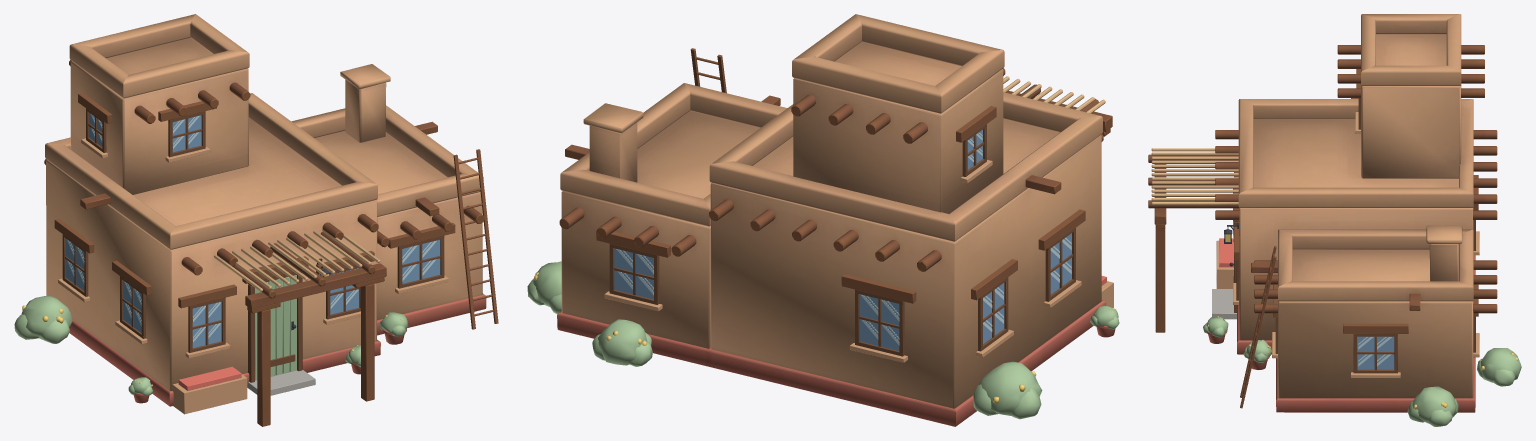
File: bldg_adobe.glb
3 renders of one model, left to right at view 1: azimuth 30°, elevation 25°; view 2: azimuth 150°, elevation 25°; view 3: azimuth 270°, elevation 25°, orthographic. The views are drawn at different scales.
Parts seen in each view (by area): view 1: adobe-house_body, adobe-house_details, adobe-house_plants, adobe-house_door_l, adobe-house_glints; view 2: adobe-house_body, adobe-house_details, adobe-house_plants, adobe-house_glints; view 3: adobe-house_body, adobe-house_details, adobe-house_plants.
Part boxes in pixels (x1,y1,x2,y2): adobe-house_body: [44, 14, 486, 426]; adobe-house_details: [54, 93, 498, 414]; adobe-house_plants: [14, 296, 408, 395]; adobe-house_door_l: [255, 275, 296, 380]; adobe-house_glints: [66, 113, 436, 342]; adobe-house_body: [557, 14, 1112, 426]; adobe-house_details: [596, 48, 1115, 362]; adobe-house_plants: [527, 261, 1119, 419]; adobe-house_glints: [616, 132, 1071, 345]; adobe-house_body: [1148, 14, 1497, 412]; adobe-house_details: [1207, 69, 1479, 408]; adobe-house_plants: [1203, 316, 1521, 426].
Size of the model in its own units: 9.48 by 5.74 by 7.63.
Materials: 16 (1 with a texture image).
